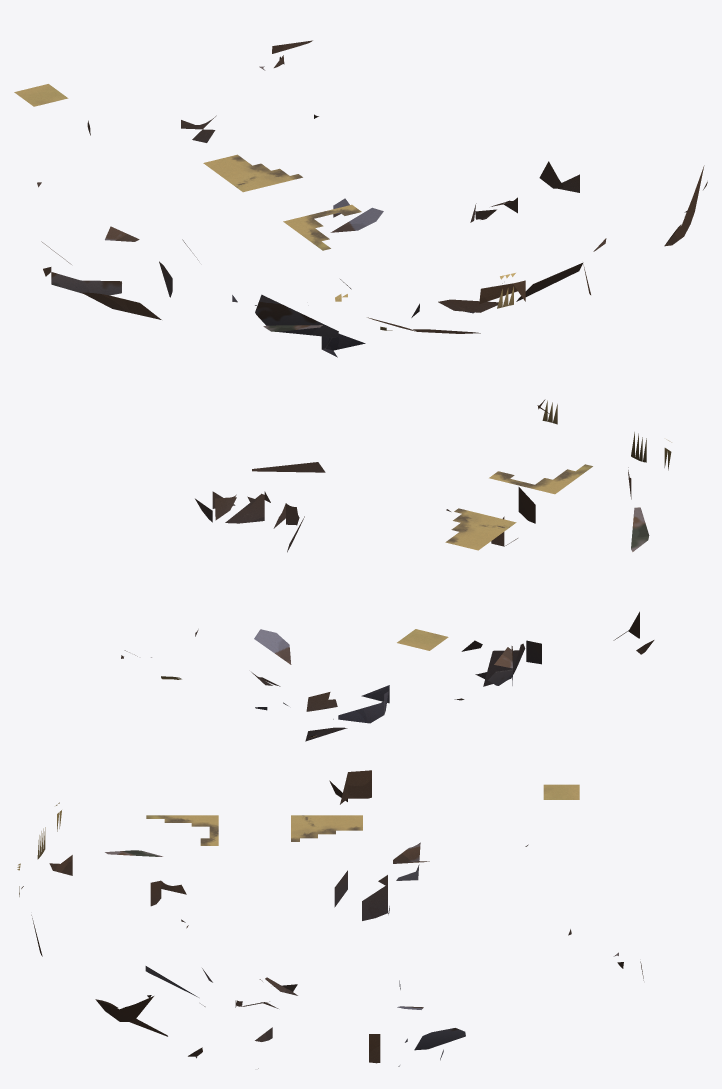
The picture shows the model from 3 angles, top to bottom: view 1: azimuth 30°, elevation 25°; view 2: azimuth 150°, elevation 25°; view 3: azimuth 270°, elevation 25°; orthographic projection. The views are drawn at different scales.
Visible parts, largest first — view 1: Grass_-2_-1_0, Columns_-2_-2_-1_001, Grass_-2_-3_0, Dirt_-5_-2_-1_101, Grass_-3_2_0_010, Columns_-4_-1_-1_010_000, Dirt_-1_-5_0_100, Columns_0_0_-2_111_000, Dirt_-1_-4_-1_101; view 2: Grass_-2_-1_0, Grass_-2_-3_0, Columns_-1_-1_-3_111, Dirt_2_-2_-1_000, Dirt_-2_3_-1_000_111, Columns_0_0_-2_111_000, Grass_-3_2_0_010, Dirt_-2_-3_-1; view 3: Grass_-2_-1_0, Grass_-2_-3_0, Dirt_-5_-1_-1_111, Dirt_-3_0_-1_101, Columns_1_1_-2_001_101, Grass_-3_2_0_010, Columns_-3_0_-1_010.
Part boxes in pixels (x1,y1,x2,y2): Grass_-2_-1_0: [203, 154, 302, 192]; Columns_-2_-2_-1_001: [255, 294, 338, 337]; Grass_-2_-3_0: [283, 204, 361, 250]; Dirt_-5_-2_-1_101: [81, 292, 161, 319]; Grass_-3_2_0_010: [14, 84, 68, 106]; Columns_-4_-1_-1_010_000: [51, 272, 117, 294]; Dirt_-1_-5_0_100: [479, 280, 525, 304]; Columns_0_0_-2_111_000: [330, 207, 383, 232]; Dirt_-1_-4_-1_101: [438, 299, 498, 312]; Grass_-2_-1_0: [445, 508, 516, 550]; Grass_-2_-3_0: [489, 464, 592, 494]; Columns_-1_-1_-3_111: [338, 685, 389, 723]; Dirt_2_-2_-1_000: [225, 491, 270, 523]; Dirt_-2_3_-1_000_111: [305, 692, 347, 741]; Columns_0_0_-2_111_000: [254, 629, 291, 705]; Grass_-3_2_0_010: [397, 629, 448, 650]; Dirt_-2_-3_-1: [491, 487, 535, 546]; Grass_-2_-1_0: [291, 815, 362, 841]; Grass_-2_-3_0: [146, 815, 218, 845]; Dirt_-5_-1_-1_111: [329, 770, 371, 804]; Dirt_-3_0_-1_101: [362, 886, 389, 920]; Columns_1_1_-2_001_101: [414, 1028, 465, 1050]; Grass_-3_2_0_010: [543, 784, 579, 799]; Columns_-3_0_-1_010: [393, 842, 429, 880].
Bounding box in the file's own units: 604 × 197 × 615.
66 materials, 66 textured.
